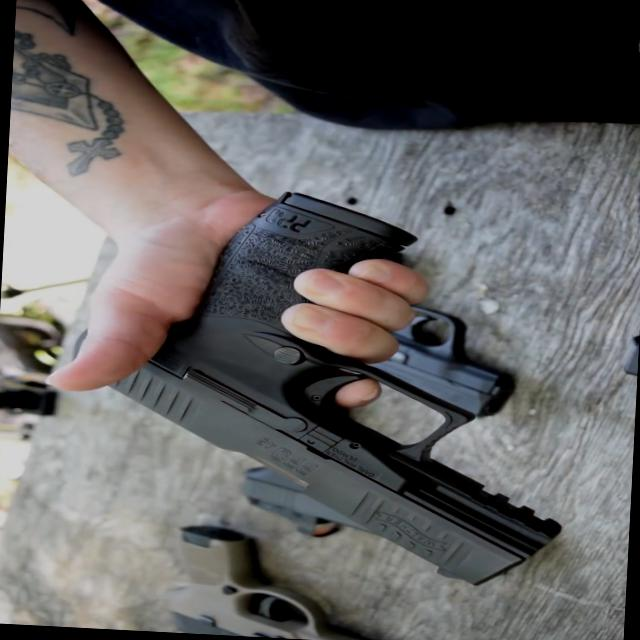handgun: (119, 170, 613, 580), (141, 504, 375, 639)
